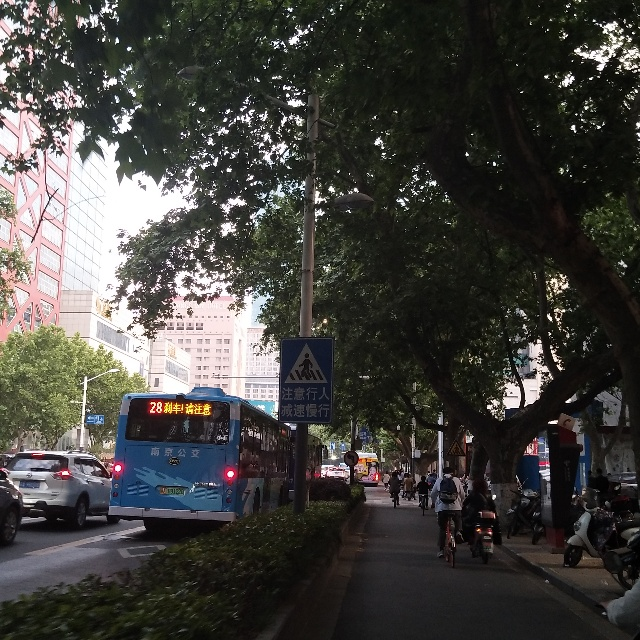crosswalk: (273, 335, 336, 427)
